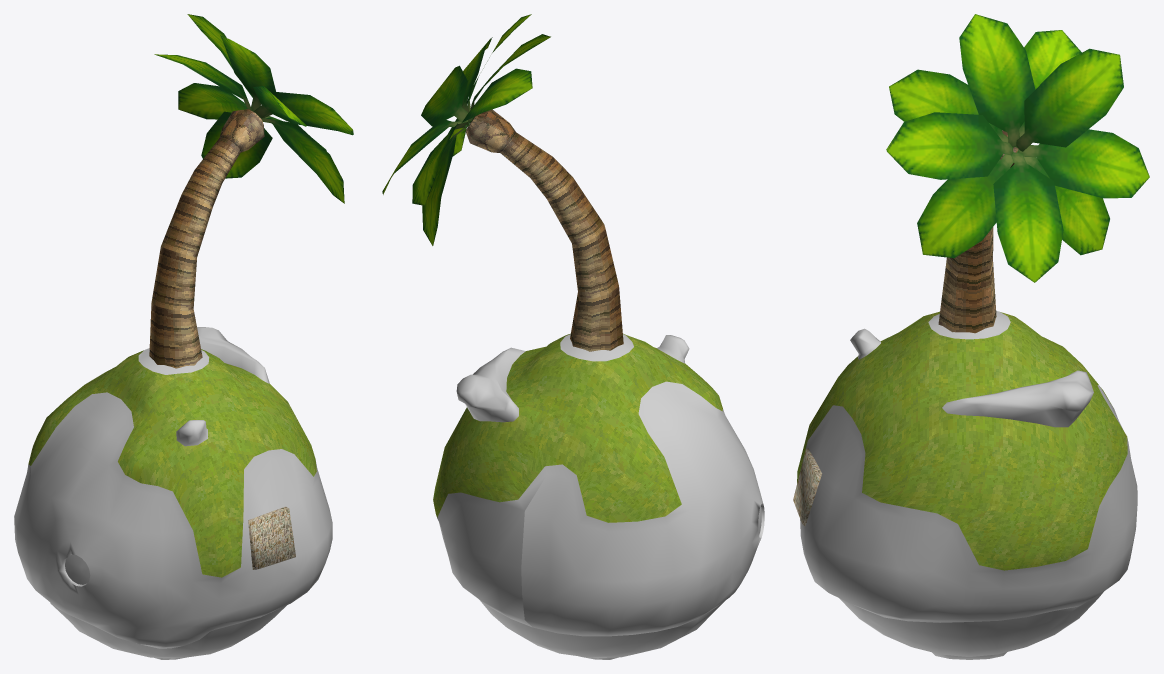
The model's file is cocotwinalow.dae.
3 renders of one model, left to right at view 1: azimuth 30°, elevation 25°; view 2: azimuth 150°, elevation 25°; view 3: azimuth 270°, elevation 25°, orthographic. The views are drawn at different scales.
Parts seen in each view (by area): view 1: n3b3, n2b5, n0b2, n1b1, n6b0, n4b4, n5b6; view 2: n3b3, n2b5, n1b1, n0b2, n6b0, n5b6; view 3: n2b5, n0b2, n3b3, n6b0, n5b6, n1b1, n4b4.
Part boxes in pixels (left/top/right/bottom): n3b3: left=14, top=348, right=332, bottom=659; n2b5: left=28, top=349, right=316, bottom=577; n0b2: left=154, top=14, right=353, bottom=203; n1b1: left=149, top=109, right=264, bottom=368; n6b0: left=50, top=554, right=286, bottom=658; n4b4: left=248, top=506, right=295, bottom=569; n5b6: left=176, top=327, right=269, bottom=446; n3b3: left=437, top=334, right=764, bottom=659; n2b5: left=433, top=333, right=722, bottom=522; n1b1: left=465, top=109, right=623, bottom=351; n0b2: left=382, top=14, right=550, bottom=245; n6b0: left=479, top=506, right=761, bottom=658; n5b6: left=456, top=335, right=689, bottom=422; n2b5: left=797, top=311, right=1127, bottom=570; n0b2: left=886, top=14, right=1149, bottom=282; n3b3: left=800, top=311, right=1137, bottom=659; n6b0: left=839, top=591, right=1103, bottom=656; n5b6: left=850, top=328, right=1093, bottom=427; n1b1: left=938, top=130, right=1018, bottom=333; n4b4: left=793, top=448, right=822, bottom=525.
Size of the model in its own units: 2397 by 4408 by 2132.
